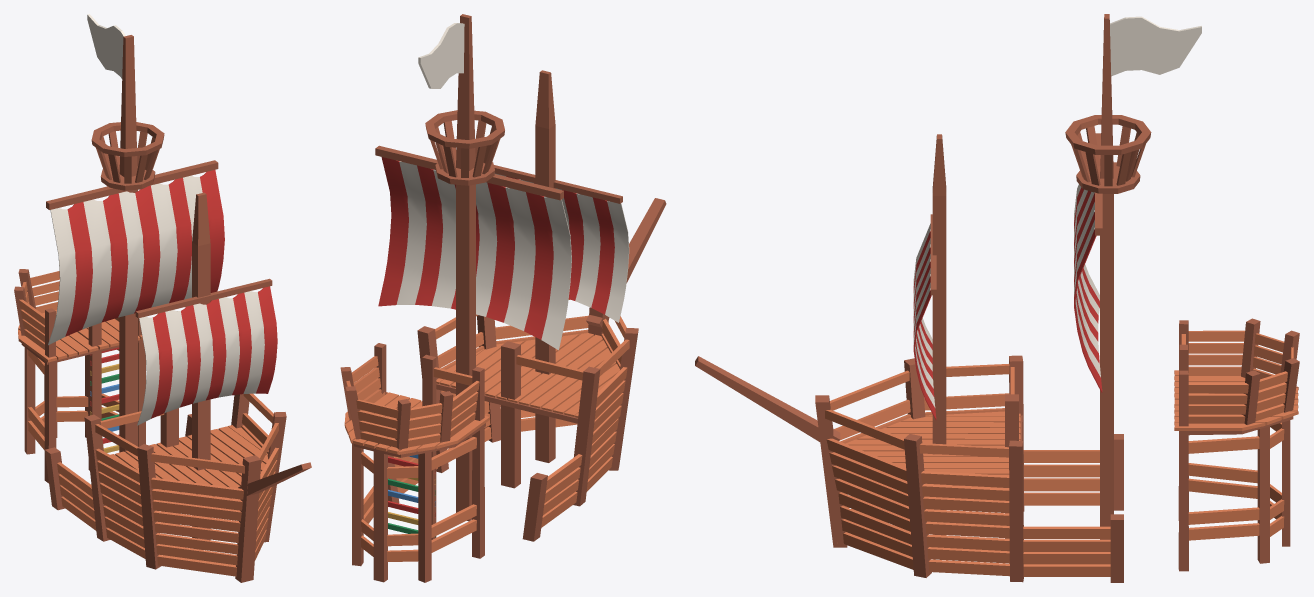
File: PirateShip_01.fbx
3 views of the same model, side by side, from view 1: azimuth 30°, elevation 25°; view 2: azimuth 150°, elevation 25°; view 3: azimuth 270°, elevation 25° (orthographic). The views are drawn at different scales.
Parts seen in each view (by area): view 1: PirateShip_01; view 2: PirateShip_01; view 3: PirateShip_01.
Part boxes in pixels (x1,y1,x2,y2): PirateShip_01: (14, 14, 311, 582); PirateShip_01: (340, 14, 666, 582); PirateShip_01: (695, 14, 1299, 582).
Bounding box in the file's own units: 2.86 × 7.4 × 7.68.
